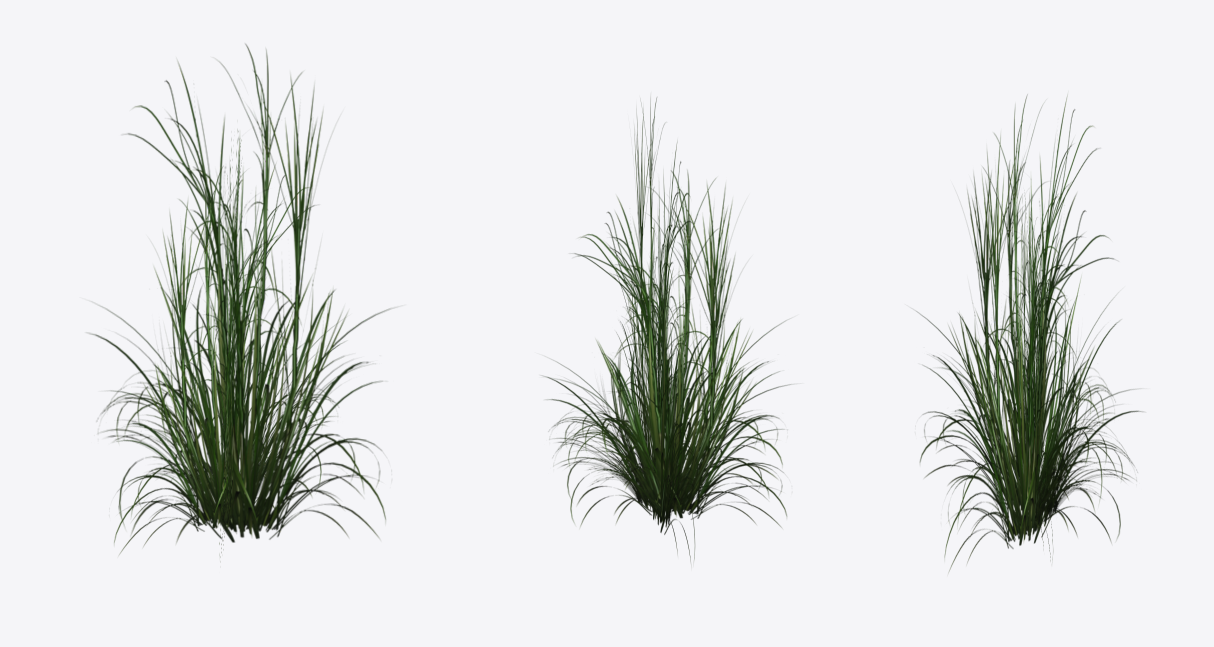
File: grass.glb
3 renders of one model, left to right at view 1: azimuth 30°, elevation 25°; view 2: azimuth 150°, elevation 25°; view 3: azimuth 270°, elevation 25°, orthographic. The views are drawn at different scales.
Parts seen in each view (by area): view 1: Plane007, Plane005, Plane006; view 2: Plane006, Plane005, Plane007; view 3: Plane007, Plane006, Plane005.
Boxes of the visible parts, x1,y1,x2,y2 form: Plane007: [89, 44, 390, 542]; Plane005: [110, 164, 343, 554]; Plane006: [219, 130, 241, 557]; Plane006: [547, 170, 786, 526]; Plane005: [544, 206, 790, 527]; Plane007: [616, 98, 703, 561]; Plane007: [941, 94, 1119, 572]; Plane006: [916, 161, 1142, 542]; Plane005: [1011, 194, 1056, 560].
Size of the model in its own units: 89.64 by 122 by 74.57.
Materials: 1 (1 with a texture image).
